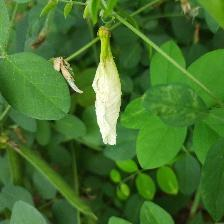shankupushpam: (89, 29, 127, 149)
